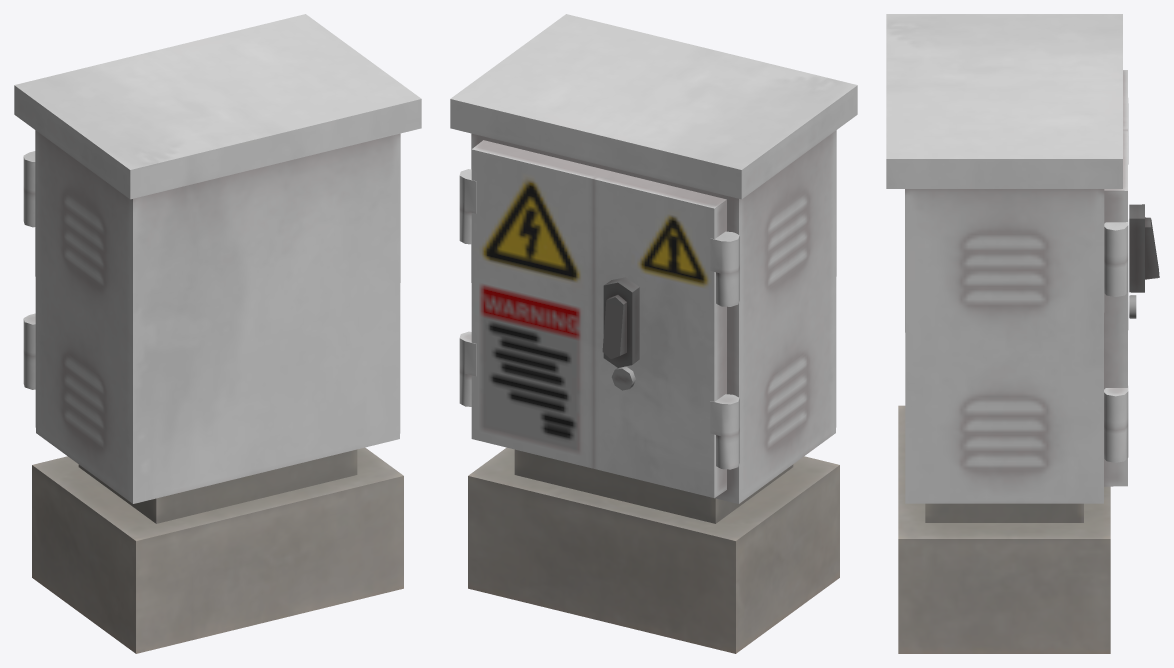
File: Pfb_ElectricBox__6.fbx
The picture shows the model from 3 angles, left to right: view 1: azimuth 30°, elevation 25°; view 2: azimuth 150°, elevation 25°; view 3: azimuth 270°, elevation 25°; orthographic projection.
Parts seen in each view (by area): view 1: Mat_ElectricBox_01; view 2: Mat_ElectricBox_01; view 3: Mat_ElectricBox_01.
Boxes of the visible parts, bbox=[...] form: Mat_ElectricBox_01: bbox=[14, 14, 421, 653]; Mat_ElectricBox_01: bbox=[450, 14, 857, 653]; Mat_ElectricBox_01: bbox=[886, 14, 1159, 653].
Size of the model in its own units: 0.6945 by 1.12 by 0.5529.
Materials: 1 (1 with a texture image).
